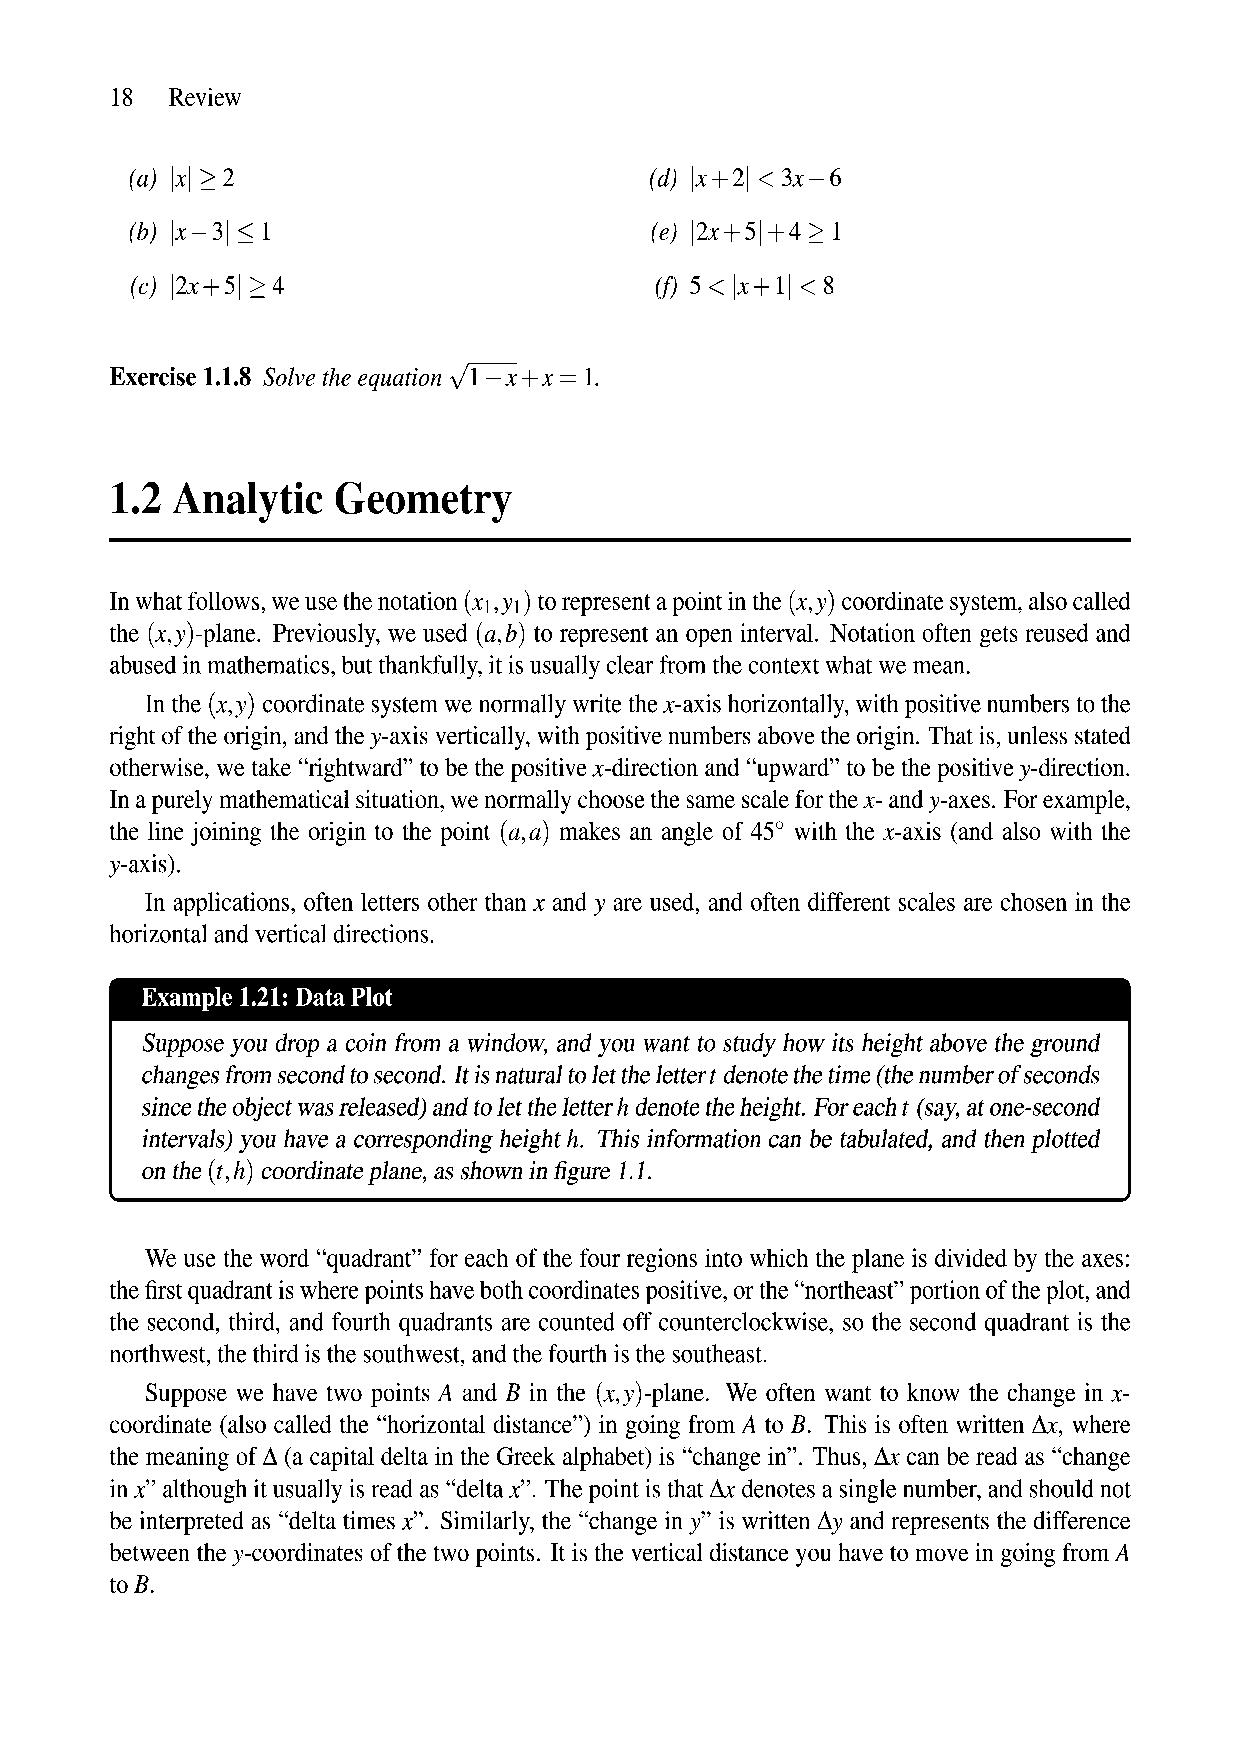chapter: (110, 476, 511, 527), (162, 83, 244, 111)
content: (106, 586, 1134, 1600), (107, 154, 851, 397)
content_pagenumber: (105, 83, 138, 111)
